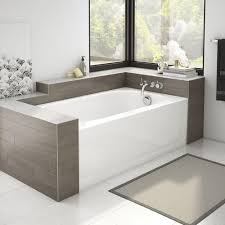bathub: (2, 78, 193, 205)
